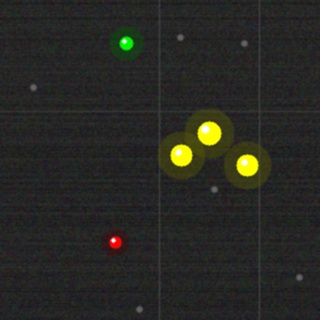green_normal: (117, 34, 135, 52)
red_fault: (107, 234, 123, 250)
yellow_warning: (195, 119, 223, 147), (168, 142, 194, 168), (234, 152, 260, 178)
